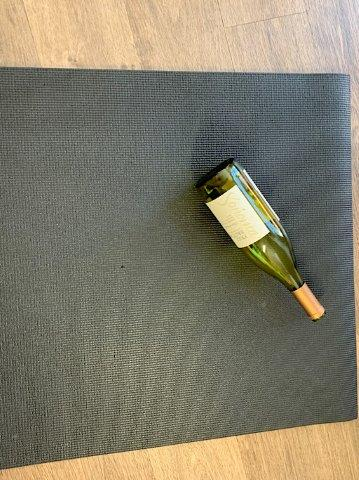botolkaca: (195, 158, 328, 322)
